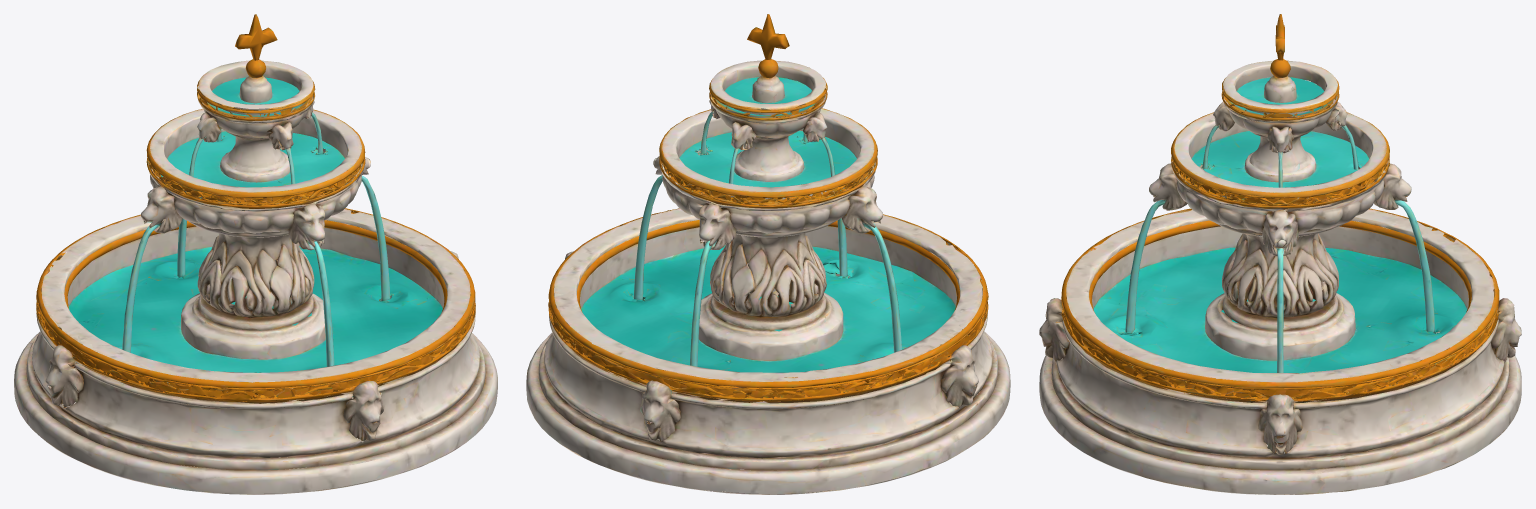
File: fountain.glb
3 renders of one model, left to right at view 1: azimuth 30°, elevation 25°; view 2: azimuth 150°, elevation 25°; view 3: azimuth 270°, elevation 25°, orthographic.
Parts seen in each view (by area): view 1: geometry_0; view 2: geometry_0; view 3: geometry_0.
Boxes of the visible parts, x1,y1,x2,y2 form: geometry_0: (14, 14, 497, 494); geometry_0: (526, 14, 1010, 494); geometry_0: (1039, 14, 1521, 494).
Size of the model in its own units: 0.9992 by 0.8676 by 0.9986.
1 material, 1 textured.
